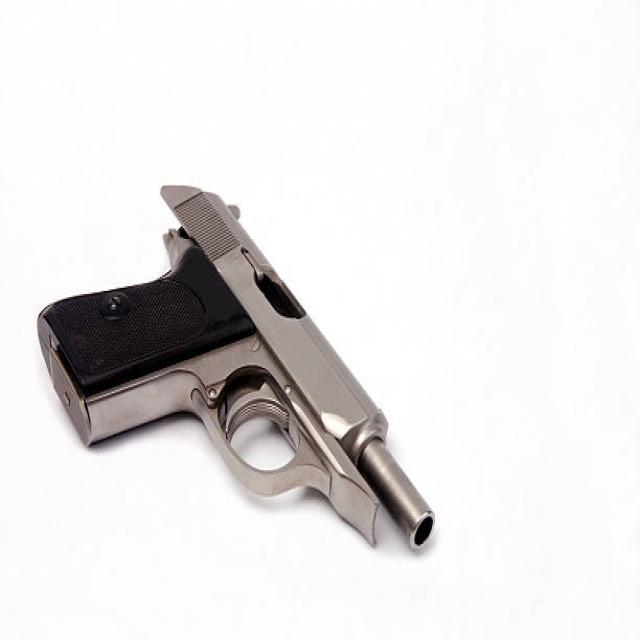pistol: (31, 181, 439, 558)
